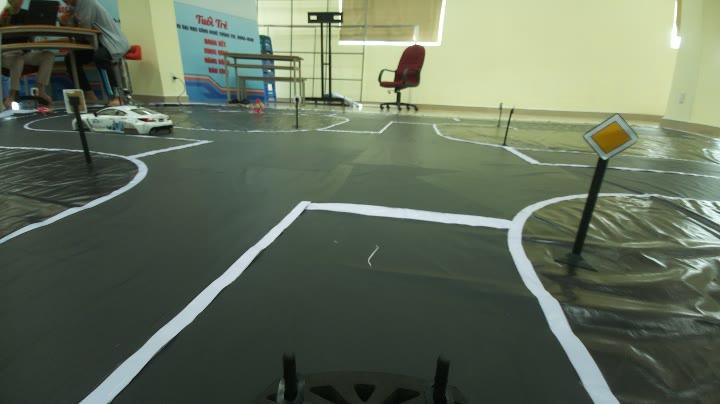priority: (582, 109, 645, 164)
